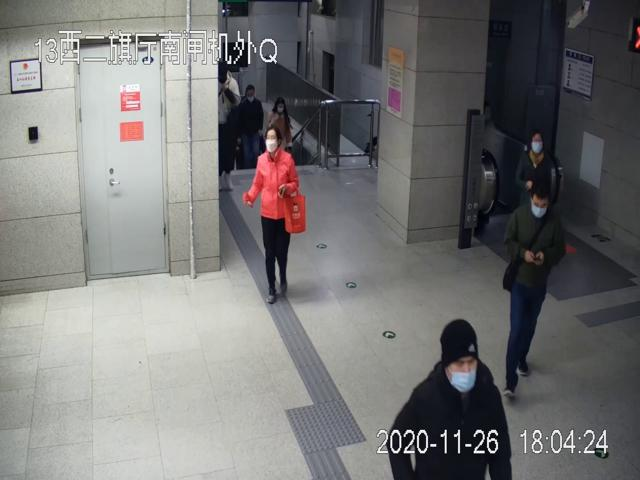person: (503, 185, 565, 388), (244, 128, 298, 304)
